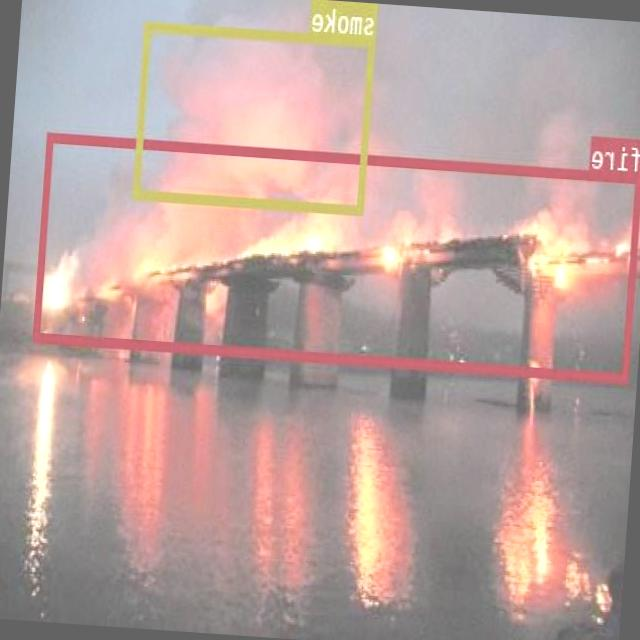fire: (34, 130, 640, 381)
smoke: (134, 21, 376, 212)
